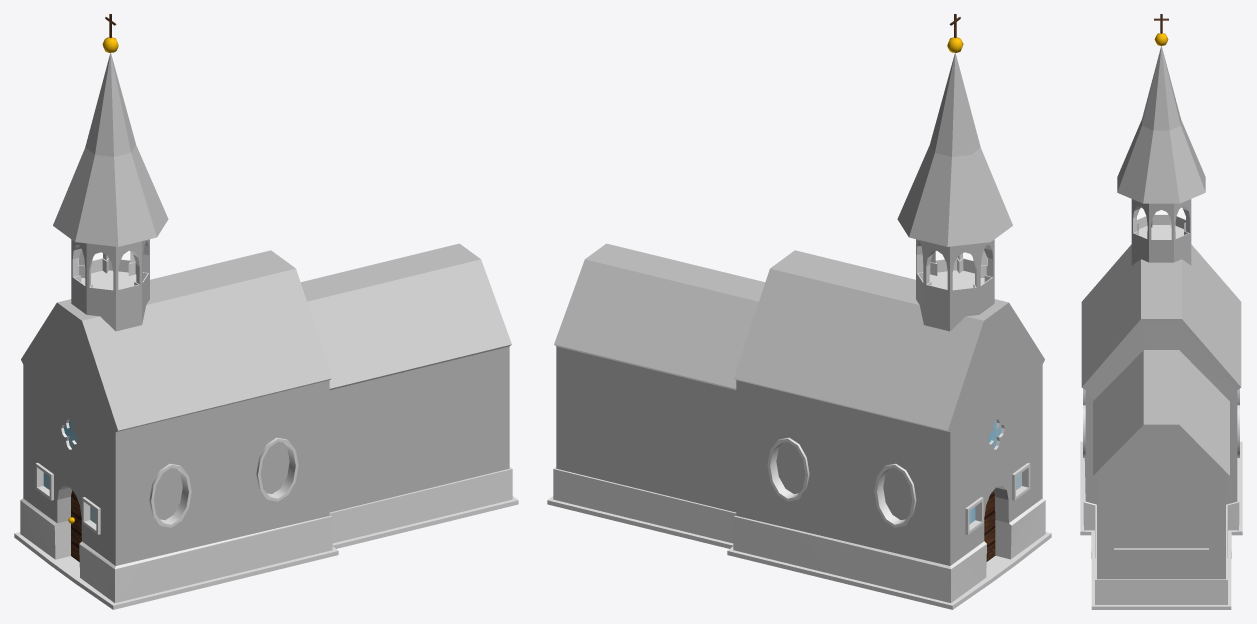
Rendered from Low Poly Church.fbx.
3 renders of one model, left to right at view 1: azimuth 30°, elevation 25°; view 2: azimuth 150°, elevation 25°; view 3: azimuth 270°, elevation 25°, orthographic. The views are drawn at different scales.
Visible parts, largest first — view 1: Church; view 2: Church; view 3: Church.
Part boxes in pixels (x1,y1,x2,y2): Church: [14, 14, 518, 609]; Church: [547, 14, 1051, 609]; Church: [1080, 14, 1242, 609].
Bounding box in the file's own units: 1550 × 1962 × 643.
